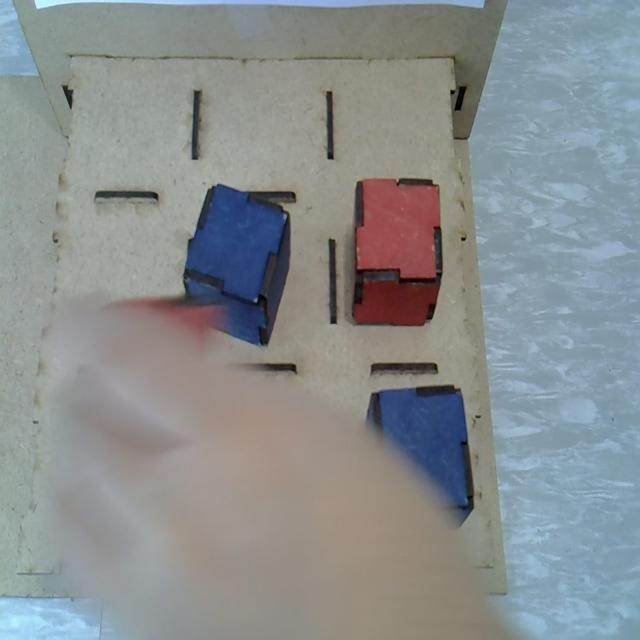red_box: (354, 177, 442, 325)
